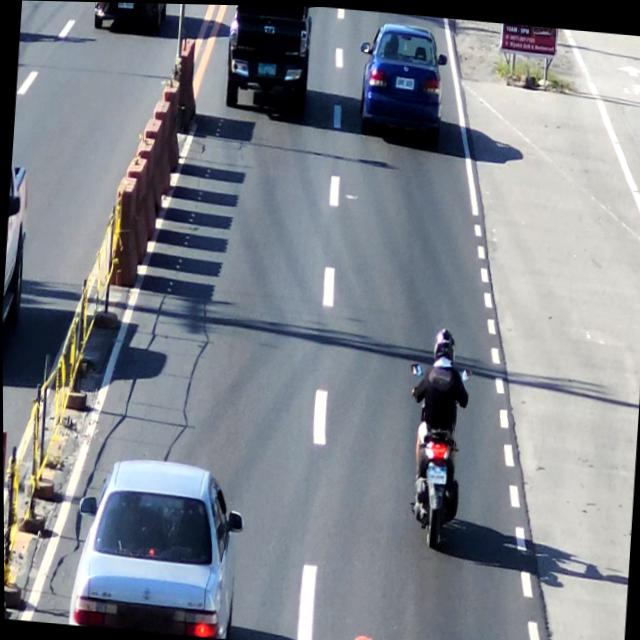Car: (64, 456, 245, 639), (356, 19, 447, 136), (221, 4, 315, 115)
License-Plate: (255, 58, 277, 75), (394, 73, 415, 89)
Motorcycle: (403, 332, 479, 557)
